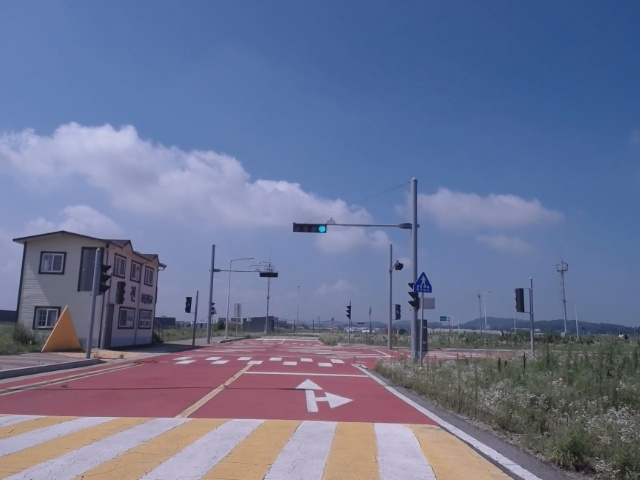straight_green_4: (293, 224, 327, 233)
